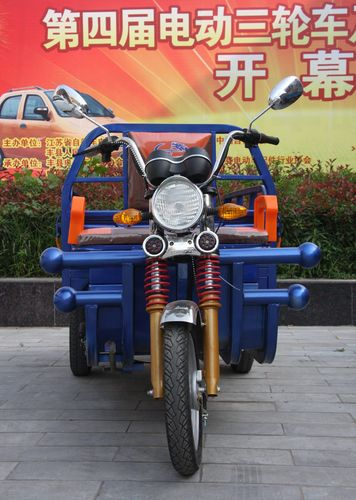empty: (40, 82, 329, 480)
